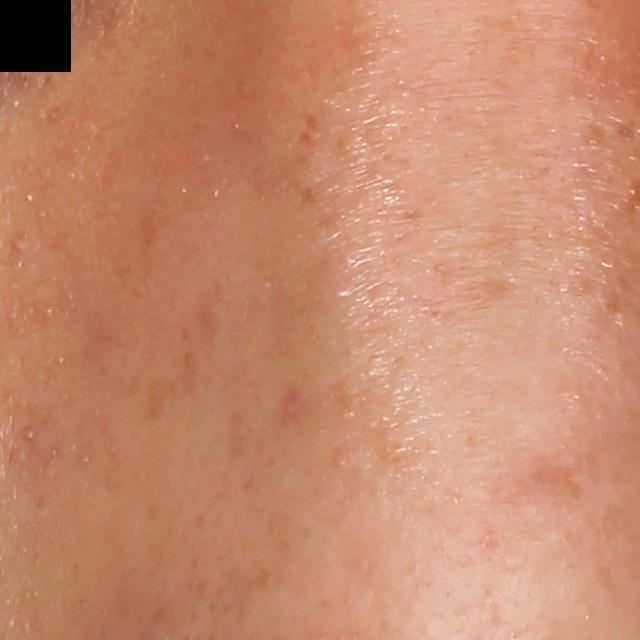melasma: (144, 292, 222, 414), (431, 259, 519, 313), (577, 112, 609, 147), (614, 119, 636, 139)
